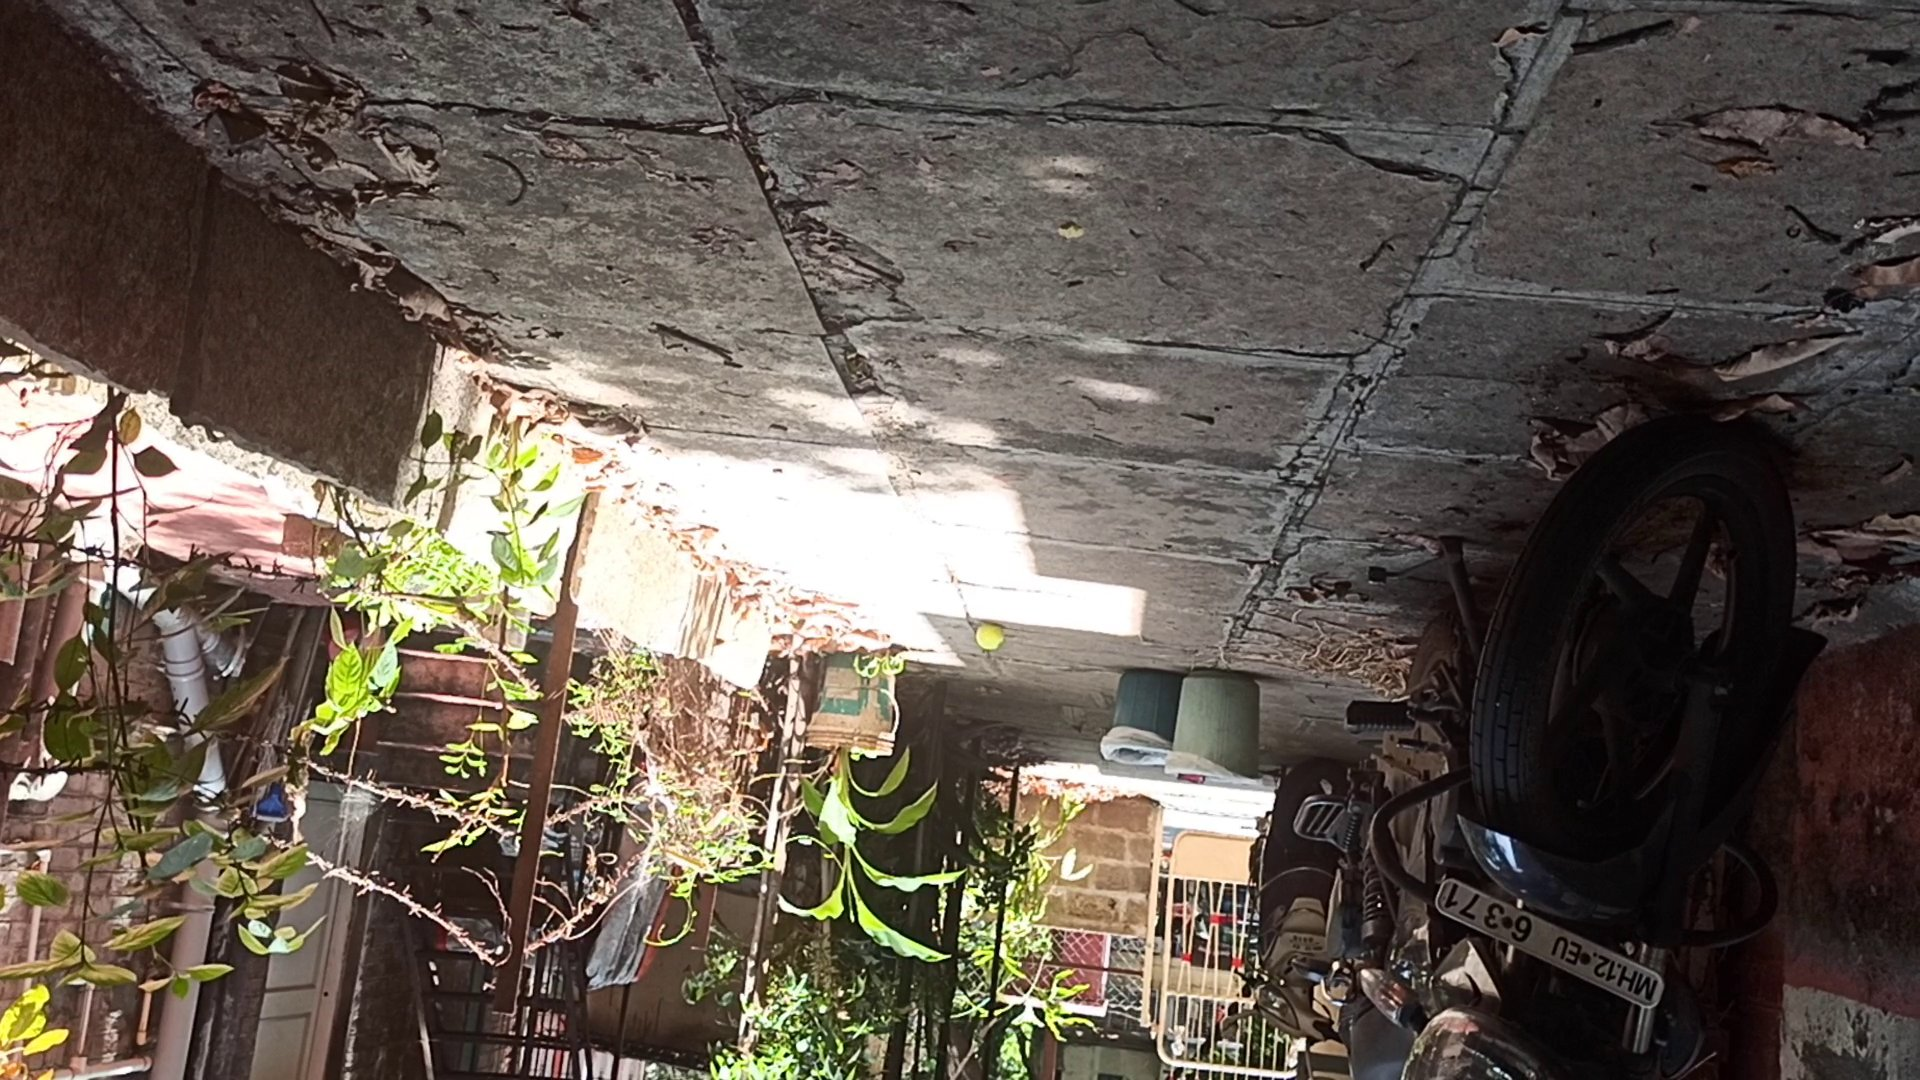Tennis-Ball: (976, 624, 1004, 650)
